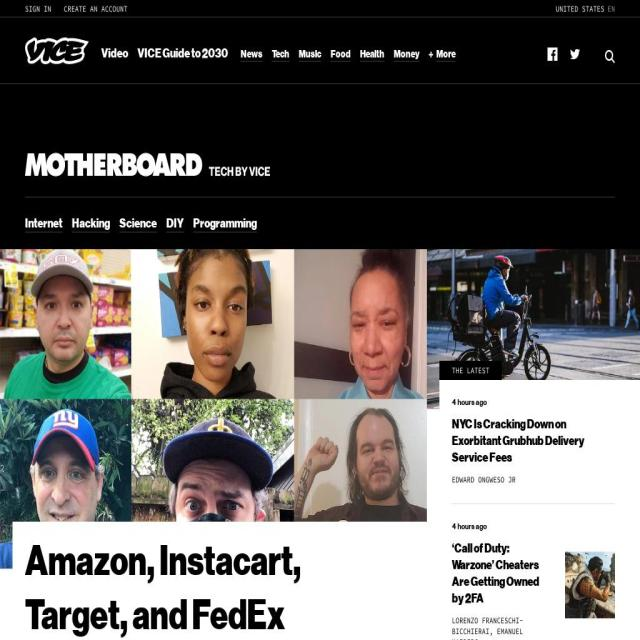button: (0, 249, 427, 569), (12, 521, 427, 640), (426, 249, 640, 409), (439, 415, 640, 466), (439, 539, 565, 607), (25, 37, 89, 64), (138, 45, 228, 62), (193, 215, 257, 233), (544, 35, 560, 78), (567, 35, 583, 78), (25, 215, 63, 233), (72, 215, 110, 233), (119, 215, 157, 233), (556, 3, 615, 14), (602, 37, 618, 76), (101, 45, 128, 62), (428, 47, 456, 61), (394, 47, 419, 61), (360, 47, 384, 61), (166, 215, 184, 233), (240, 47, 262, 61), (299, 47, 321, 61), (330, 47, 350, 61), (272, 47, 289, 61), (564, 550, 565, 552)
heading: (25, 134, 275, 184)
image: (0, 249, 427, 569), (426, 249, 640, 409), (564, 551, 615, 618), (25, 37, 89, 64), (548, 47, 558, 61), (570, 47, 580, 61), (605, 50, 615, 63), (429, 52, 433, 58)
link: (64, 3, 128, 14), (25, 3, 51, 14)
text: (25, 533, 402, 640), (451, 415, 615, 466), (451, 539, 540, 607), (451, 396, 640, 407), (451, 614, 523, 640), (451, 520, 565, 532), (451, 473, 516, 485), (556, 3, 604, 14), (452, 364, 489, 376), (394, 48, 419, 62), (360, 48, 384, 62), (240, 48, 262, 62), (299, 48, 321, 62), (330, 48, 350, 62), (436, 48, 456, 62), (272, 48, 289, 62), (607, 3, 615, 14)
